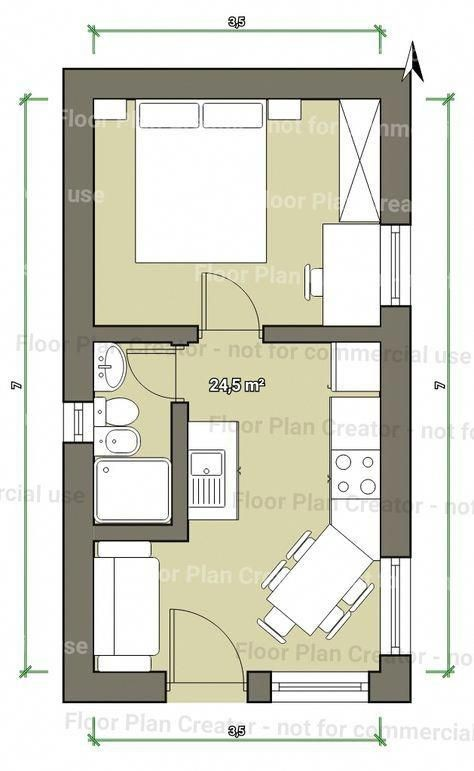door: (163, 603, 248, 683), (191, 267, 264, 336), (124, 348, 190, 398)
room: (61, 66, 395, 332), (186, 337, 405, 704), (94, 541, 382, 673), (63, 332, 187, 537)
wall: (54, 62, 103, 403), (58, 57, 412, 102), (372, 61, 427, 237), (62, 443, 99, 700), (381, 302, 416, 560), (60, 664, 168, 707), (263, 323, 417, 344), (64, 326, 206, 344), (377, 659, 414, 701)
window: (377, 557, 419, 662), (272, 667, 370, 710), (377, 221, 417, 307), (61, 399, 98, 446)
